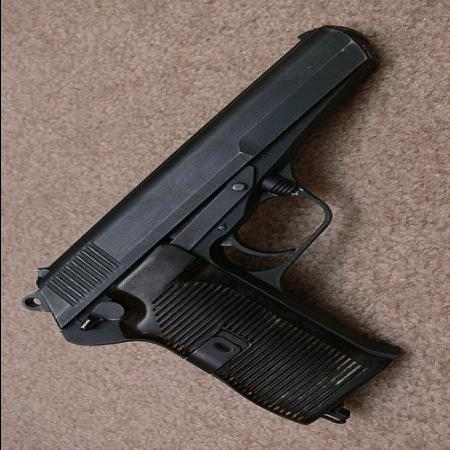Pistol: (25, 22, 390, 424)
